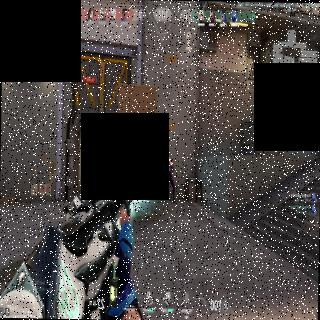ENEMY-BODY: (161, 155, 176, 204)
ENEMY-HEAD: (167, 156, 171, 164)
